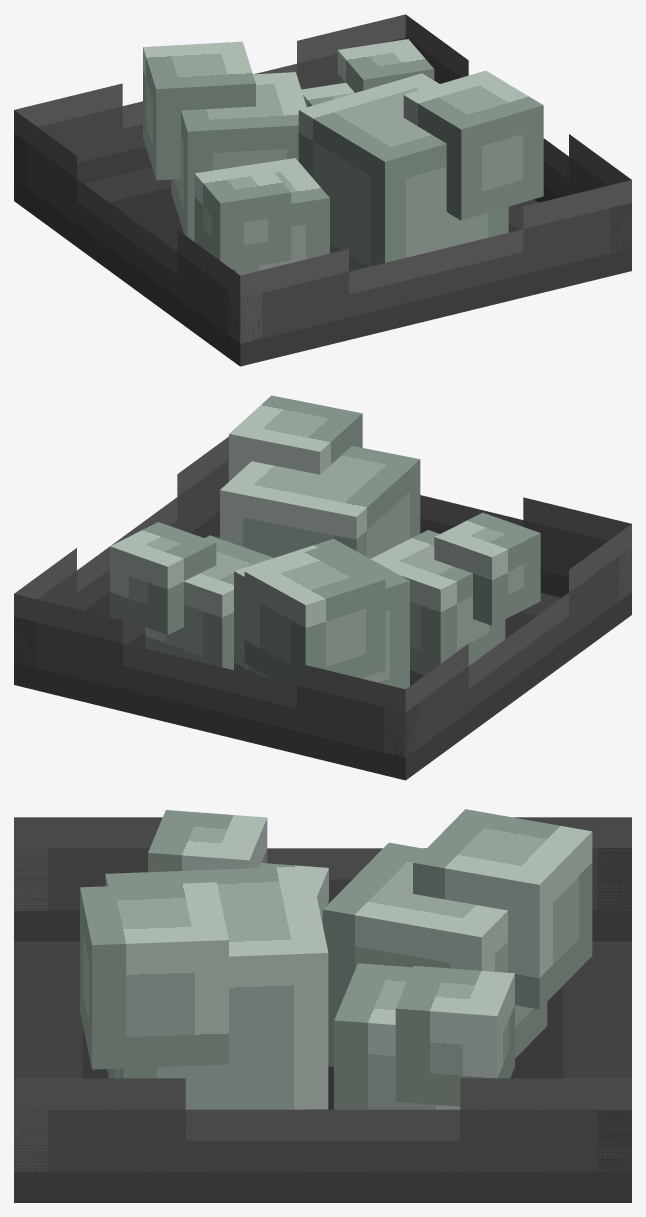
The model's file is TrayZinc.fbx.
3 views of the same model, one above another, from view 1: azimuth 30°, elevation 25°; view 2: azimuth 150°, elevation 25°; view 3: azimuth 270°, elevation 25° (orthographic). The views are drawn at different scales.
Parts seen in each view (by area): view 1: cube_156, cube_145, cube_153, cube_146, cube_157, cube_149, cube_150, cube_148, cube_154, cube_155, cube_147, cube_152 (+1 smaller); view 2: cube_157, cube_153, cube_145, cube_150, cube_147, cube_152, cube_154, cube_148, cube_146, cube_156, cube_151, cube_149 (+1 smaller); view 3: cube_154, cube_145, cube_146, cube_150, cube_155, cube_153, cube_149, cube_152, cube_151, cube_148, cube_147.
Boxes of the visible parts, x1,y1,x2,y2 form: cube_156: [240, 180, 631, 366]; cube_145: [298, 73, 508, 271]; cube_153: [14, 110, 240, 366]; cube_146: [403, 70, 543, 220]; cube_157: [14, 14, 405, 183]; cube_149: [171, 72, 306, 241]; cube_150: [143, 41, 255, 180]; cube_148: [194, 162, 291, 269]; cube_154: [405, 14, 631, 202]; cube_155: [84, 167, 537, 251]; cube_147: [232, 158, 329, 275]; cube_152: [337, 39, 434, 92]; cube_157: [14, 594, 405, 780]; cube_153: [405, 524, 631, 780]; cube_145: [220, 446, 420, 558]; cube_150: [244, 545, 385, 685]; cube_147: [371, 530, 505, 674]; cube_152: [110, 522, 216, 634]; cube_154: [14, 436, 228, 616]; cube_148: [434, 512, 540, 625]; cube_146: [229, 395, 362, 481]; cube_156: [420, 495, 631, 597]; cube_151: [145, 535, 273, 670]; cube_149: [234, 538, 409, 689]; cube_154: [14, 1078, 631, 1202]; cube_145: [105, 866, 328, 1109]; cube_146: [80, 882, 228, 1069]; cube_150: [413, 809, 592, 1009]; cube_155: [14, 941, 631, 1109]; cube_153: [14, 817, 631, 941]; cube_149: [323, 842, 547, 1066]; cube_152: [395, 965, 514, 1106]; cube_151: [334, 963, 460, 1109]; cube_148: [148, 810, 267, 872]; cube_147: [259, 863, 328, 925].
Bounding box in the file's own units: 113 × 43.75 × 113.
